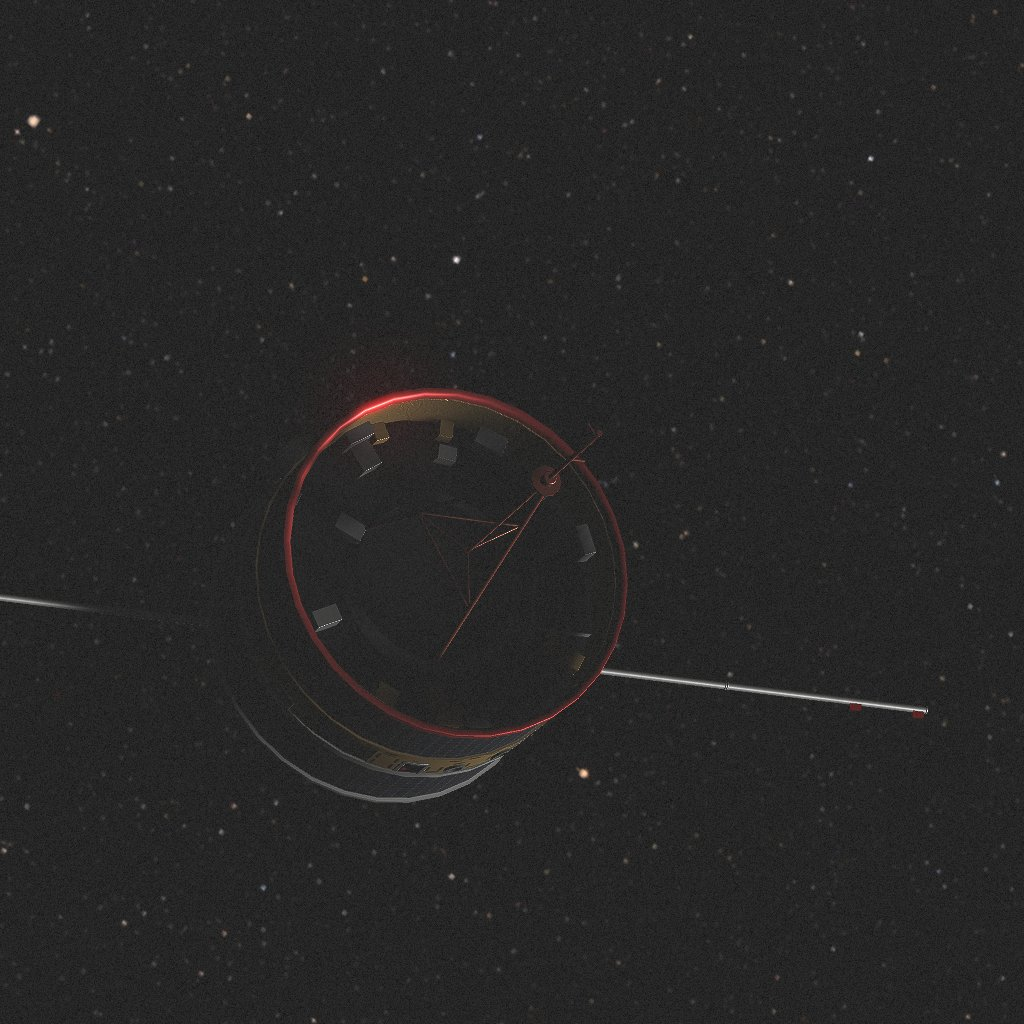double_star: (0, 387, 928, 803)
